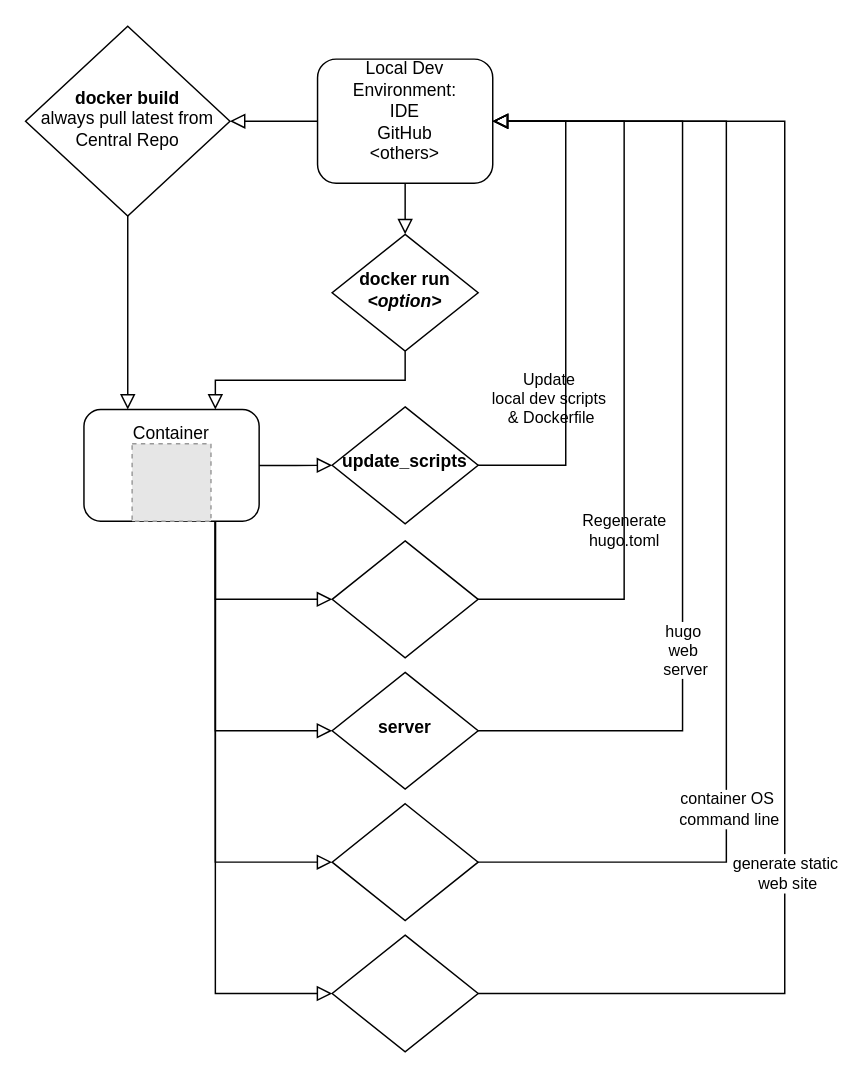
This 867x1077 diagram has some shape labels left out. Grey dashed boxes stand in for pictures. The shapes that lost their labels are listed below. From the top down, each one's centre as x and y in pixels, then its label:
point (404, 598): generate_toml
point (404, 861): shell
point (404, 993): build
